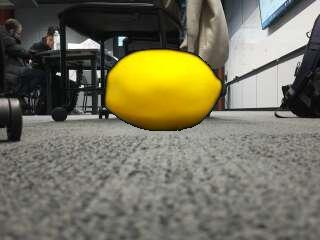lemon: (104, 50, 221, 130)
